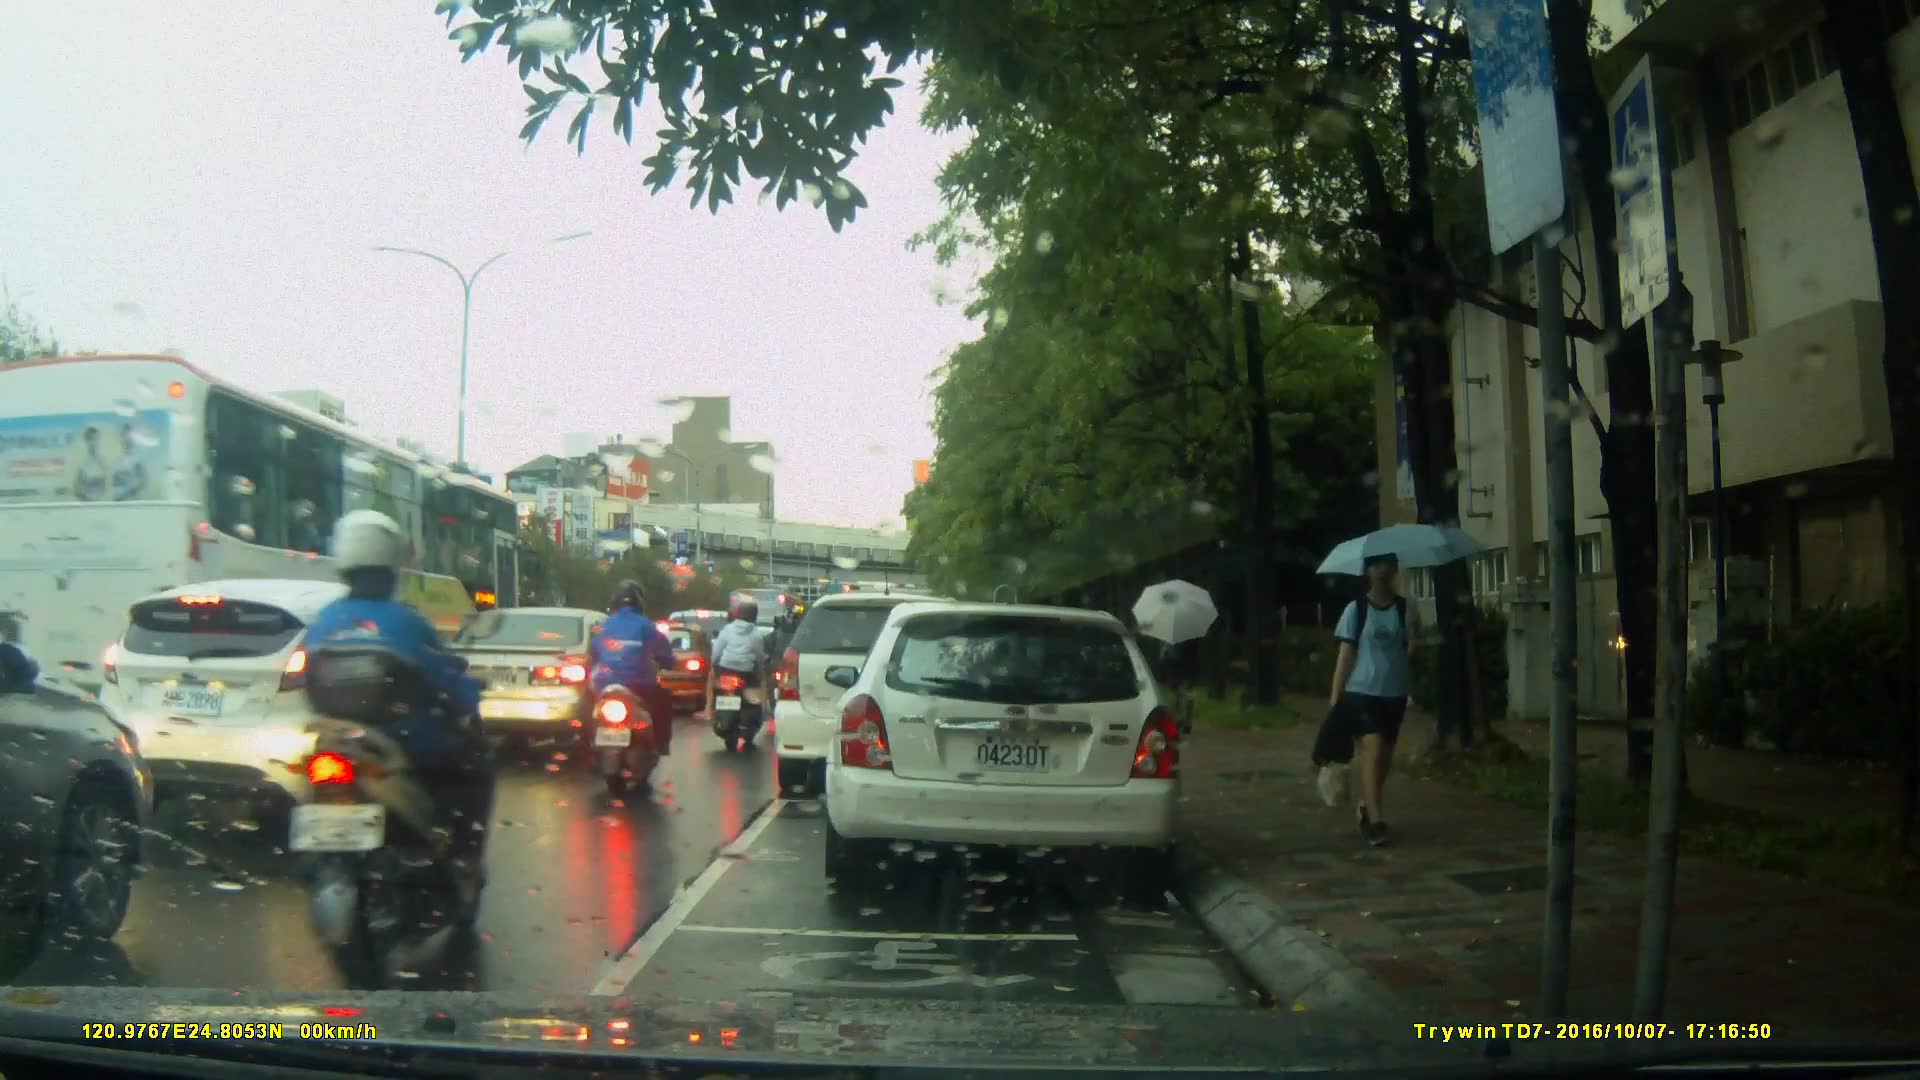pedestrian: (1318, 543, 1457, 840), (1154, 611, 1206, 735)
rider: (273, 486, 493, 989), (591, 582, 676, 790), (715, 595, 782, 761), (772, 609, 808, 724)
vehicle: (1, 349, 535, 770), (835, 594, 1194, 898), (90, 576, 485, 846), (776, 590, 1026, 784), (412, 604, 659, 754), (610, 619, 727, 719)
